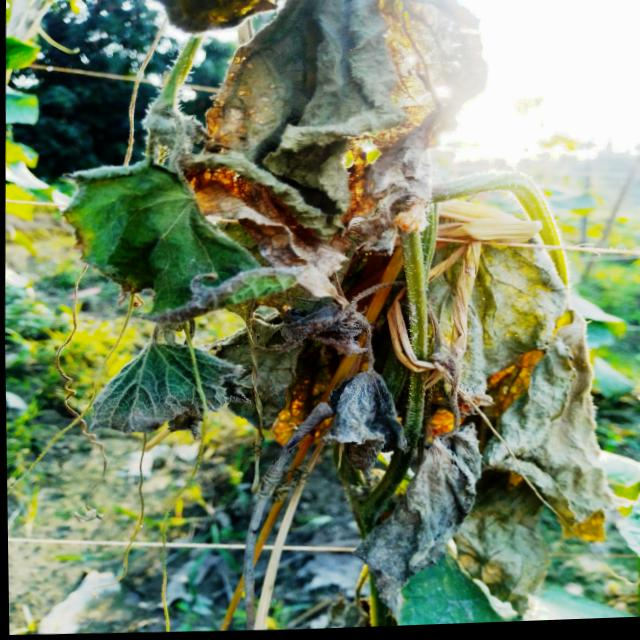Bacterial-Wilt: (178, 0, 488, 310), (477, 301, 617, 552), (349, 422, 480, 621), (321, 367, 409, 473)
